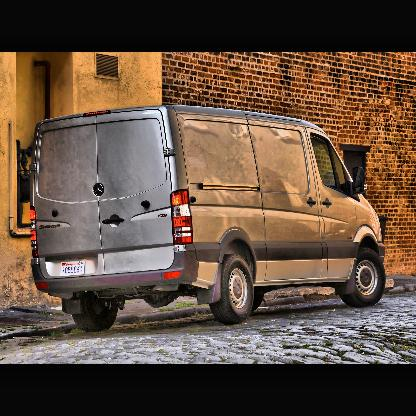Mercedes-Benz Sprinter Van 2012: (29, 104, 386, 335)
